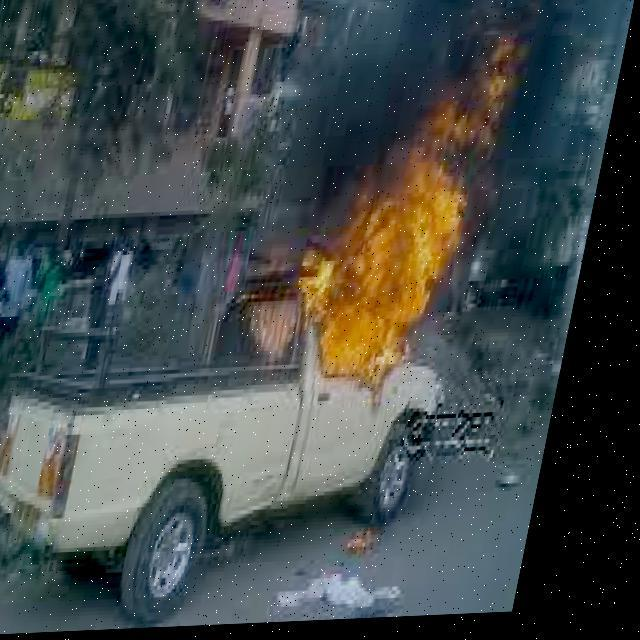Fire: (294, 39, 532, 392)
